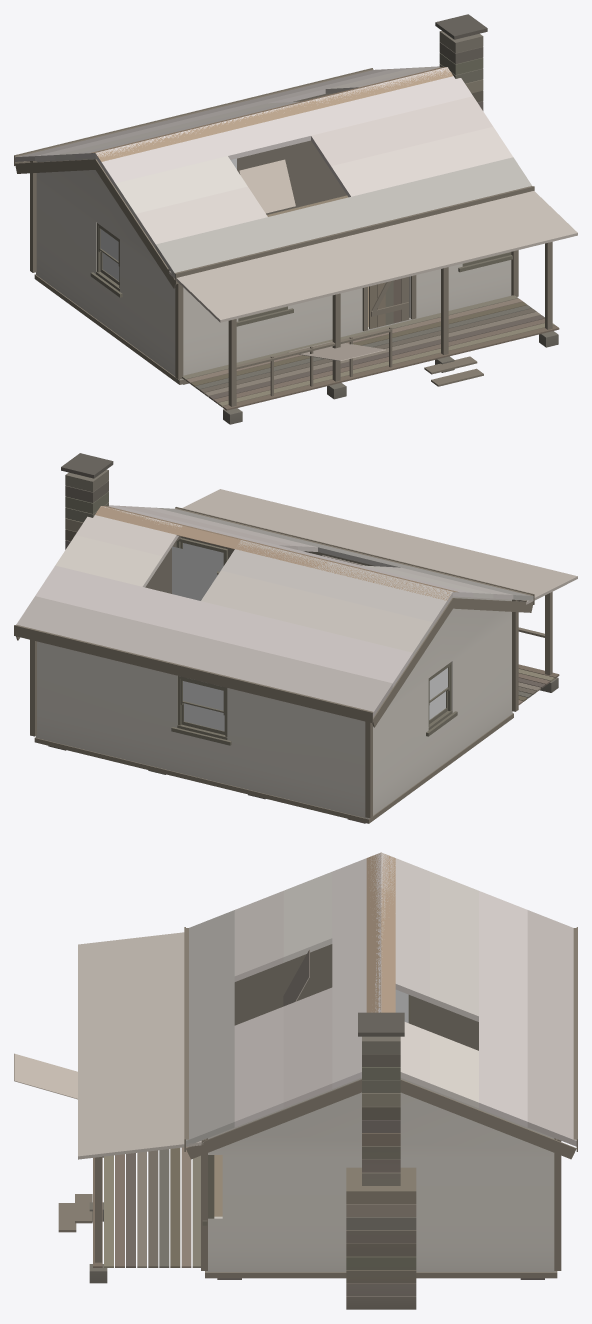
The model's file is cabin_abandoned_a_broken_roof_lod2.glb.
The picture shows the model from 3 angles, top to bottom: view 1: azimuth 30°, elevation 25°; view 2: azimuth 150°, elevation 25°; view 3: azimuth 270°, elevation 25°; orthographic projection. The views are drawn at different scales.
Visible parts, largest first — view 1: body, door, windows; view 2: body, windows, window_light; view 3: body.
Part boxes in pixels (box(x1,y1,x2,y2)): body: box(14, 14, 577, 424); door: box(369, 277, 409, 328); windows: box(100, 229, 119, 280); body: box(14, 453, 577, 823); windows: box(183, 543, 447, 731); window_light: box(172, 546, 216, 600); body: box(14, 852, 577, 1309).
Size of what is drawn, in the model's own units: 9.34 by 5.2 by 9.67.
